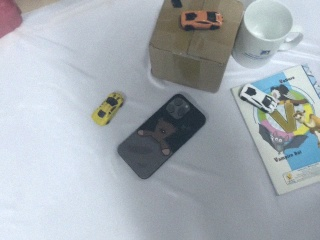book: (228, 62, 320, 196)
box: (148, 1, 243, 93)
cup: (231, 1, 302, 68)
phone: (115, 92, 207, 181)
toy_car: (239, 82, 278, 112), (91, 91, 124, 126), (180, 8, 224, 32)
